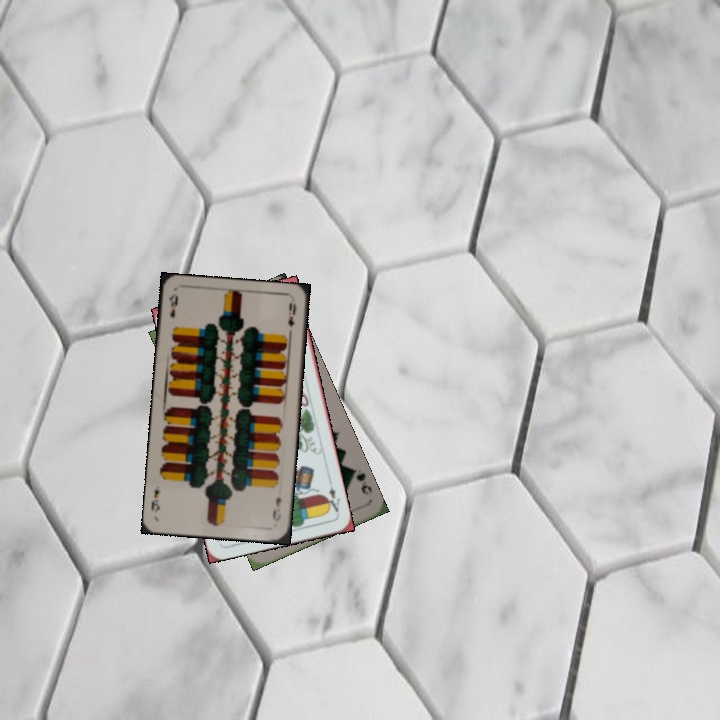E9: (269, 493, 284, 524), (165, 290, 180, 320)
EA: (322, 477, 343, 515)
G9: (346, 465, 375, 497)
